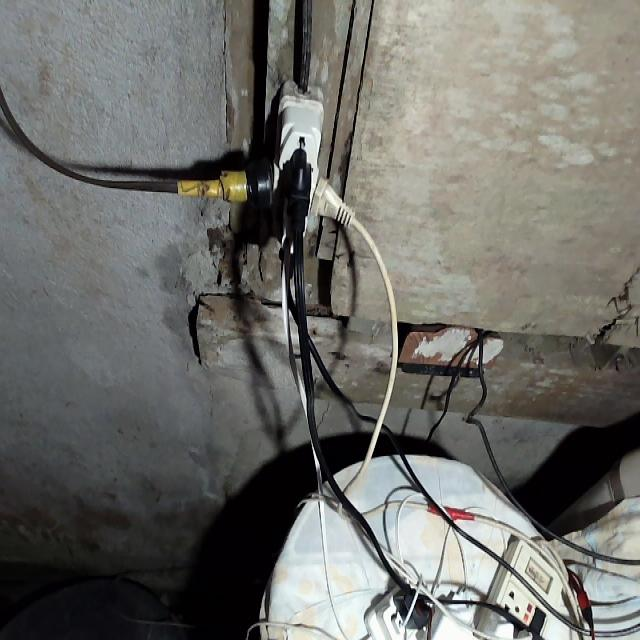-: (232, 80, 350, 260)
